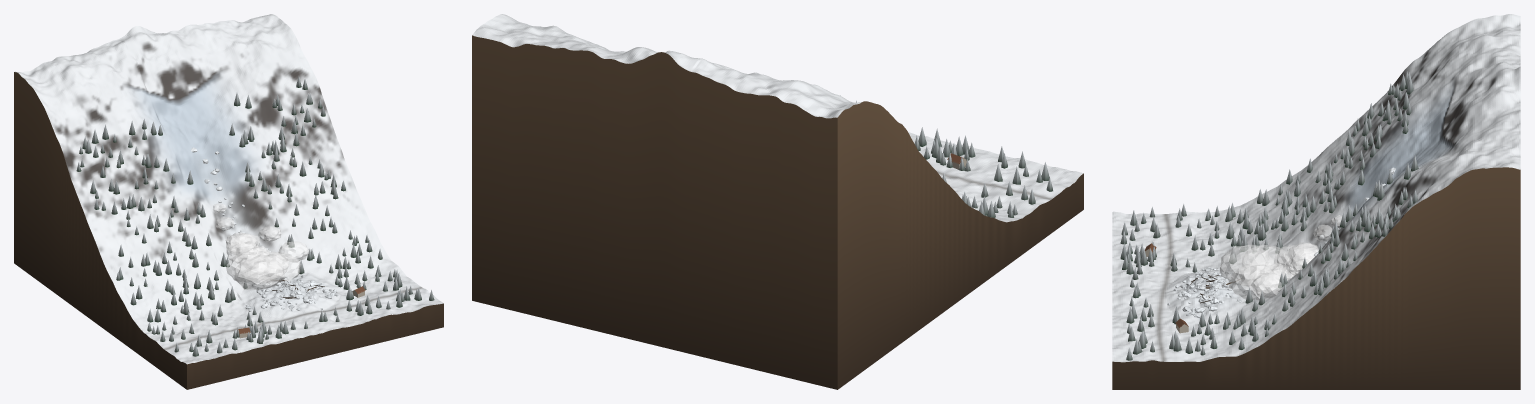
Rendered from avalanche.glb.
3 views of the same model, side by side, from view 1: azimuth 30°, elevation 25°; view 2: azimuth 150°, elevation 25°; view 3: azimuth 270°, elevation 25° (orthographic). The views are drawn at different scales.
Visible parts, largest first — view 1: terrain, plinth, trees, powder, snow_blocks; view 2: plinth, terrain, trees; view 3: terrain, plinth, trees, powder, snow_blocks.
Boxes of the visible parts, <box> form: terrain: <box>15,14,443,364</box>; plinth: <box>14,72,443,389</box>; trees: <box>76,76,434,356</box>; powder: <box>213,203,308,289</box>; snow_blocks: <box>191,147,338,311</box>; plinth: <box>472,35,1083,389</box>; terrain: <box>472,14,1083,222</box>; trees: <box>840,95,1052,217</box>; terrain: <box>1112,14,1520,362</box>; plinth: <box>1112,167,1520,389</box>; trees: <box>1120,71,1418,360</box>; powder: <box>1220,215,1342,299</box>; snow_blocks: <box>1167,167,1395,319</box>.
Size of the model in its own units: 12 by 9.26 by 14.
